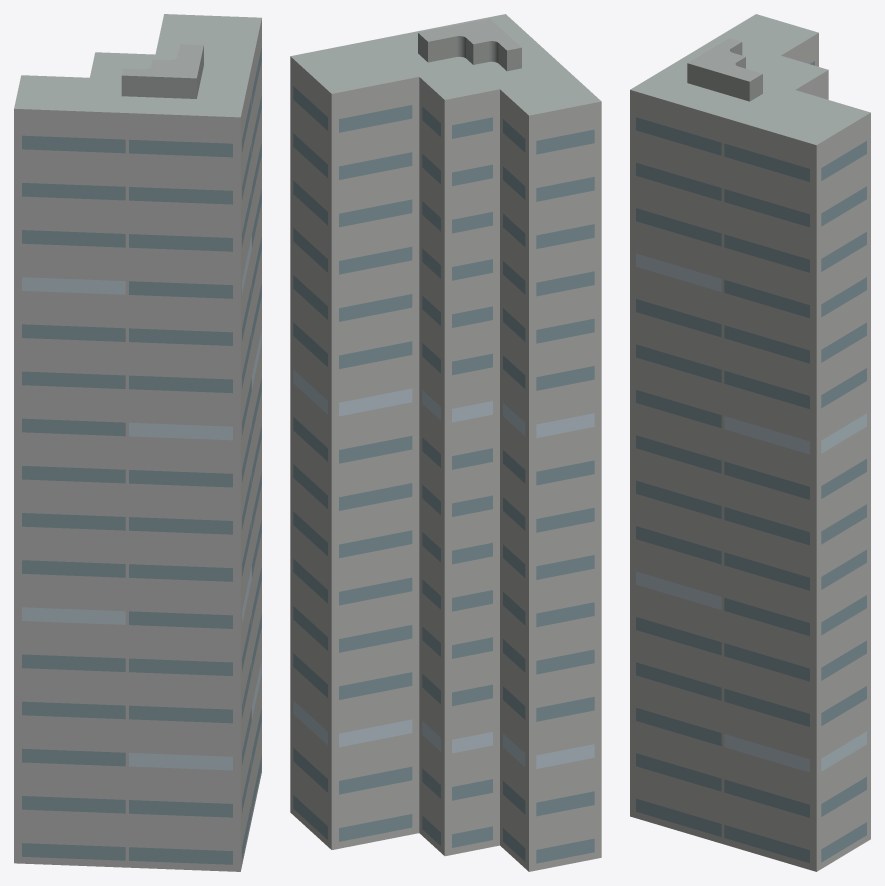
File: fallback-prestige-120.glb
3 views of the same model, side by side, from view 1: azimuth 30°, elevation 25°; view 2: azimuth 150°, elevation 25°; view 3: azimuth 270°, elevation 25° (orthographic). The views are drawn at different scales.
Visible parts, largest first — view 1: fallback-prestige-120; view 2: fallback-prestige-120; view 3: fallback-prestige-120.
Part boxes in pixels (x1=…): fallback-prestige-120: x1=14, y1=14, x2=261, y2=871; fallback-prestige-120: x1=290, y1=14, x2=601, y2=871; fallback-prestige-120: x1=630, y1=14, x2=870, y2=871.
Size of the model in its own units: 33.93 by 90 by 26.33.
